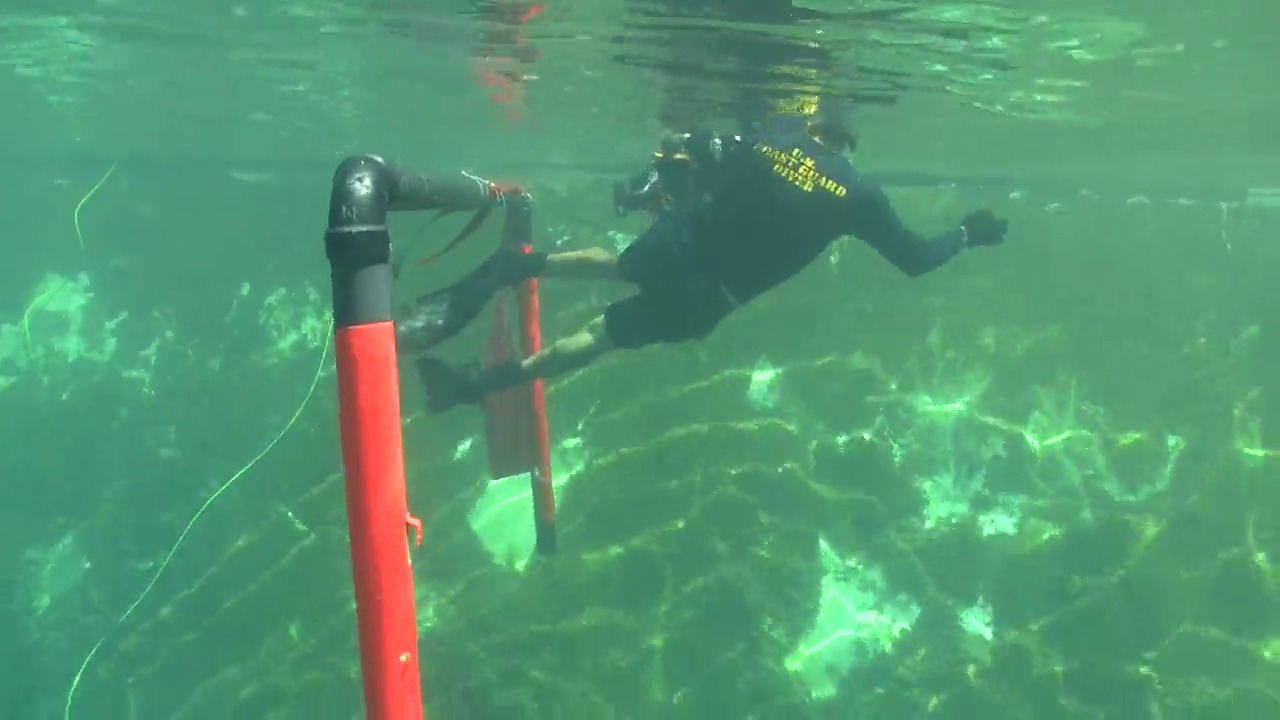gate: (311, 144, 570, 720)
